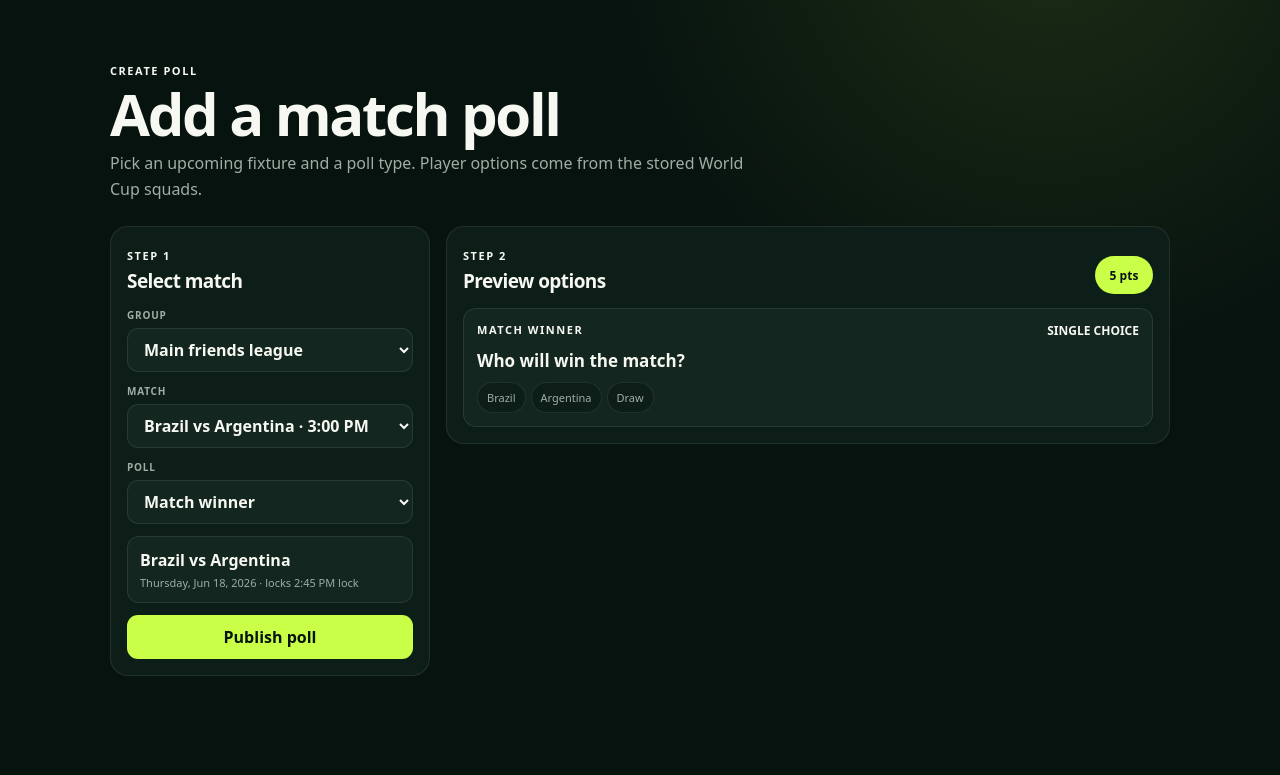
Test case: fantasy prediction game › renders user poll creation with squad-backed player options
Expected: the heading "Add a match poll" is shown, [110,74,560,153]
Select "First goal scorer" in the dropdown labelled "Poll" at (270, 502), box [127,480,413,524]
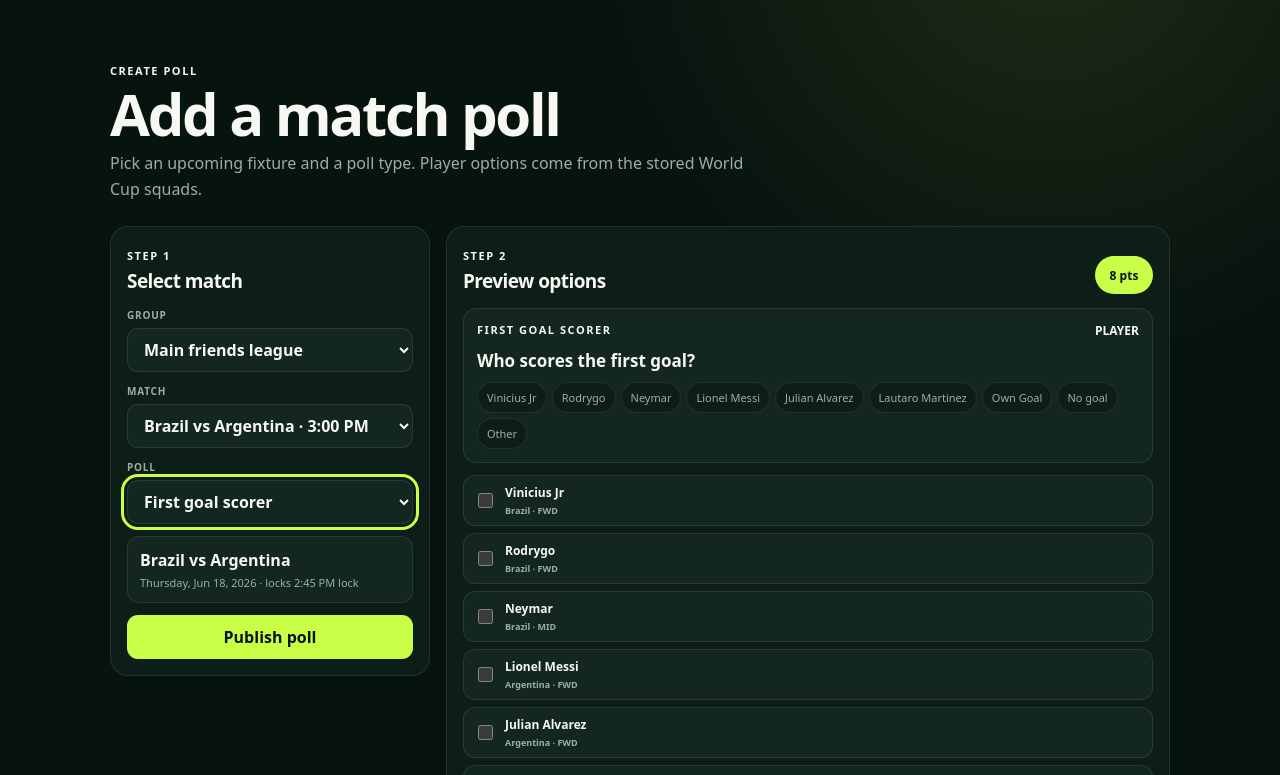
Now the heading "Who scores the first goal?" is shown, box [477,349,695,372]
Now the text "Vinicius Jr" is shown, box [477,382,547,413]
Now the text "Lionel Messi" is shown, box [686,382,770,413]
